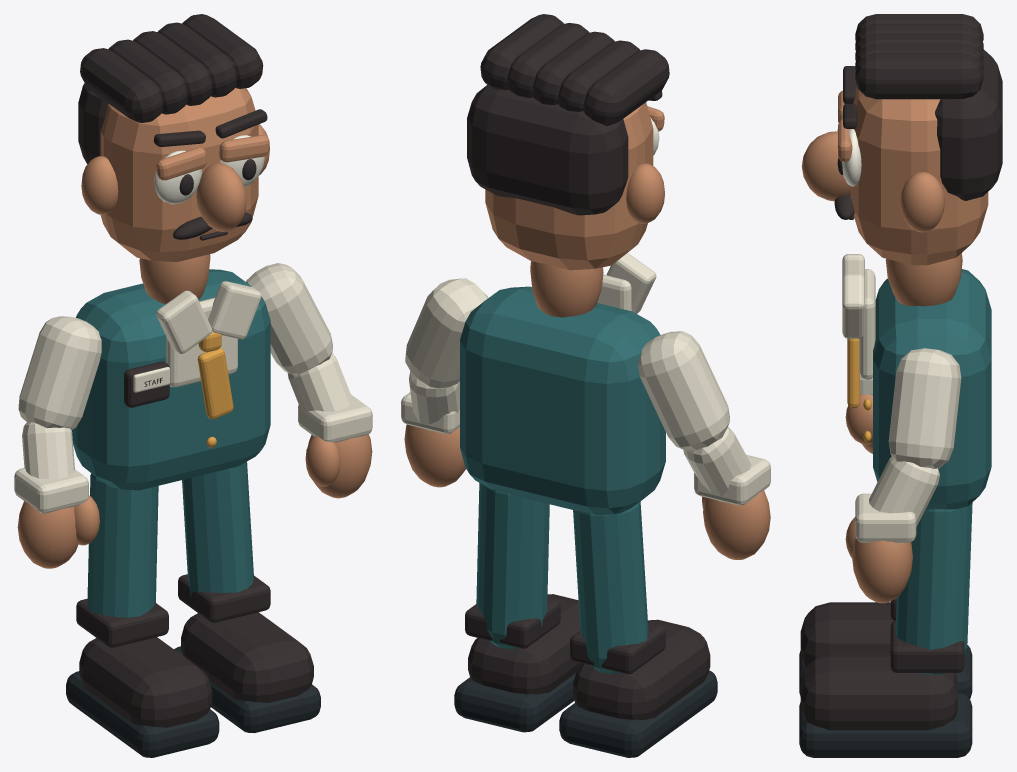
File: worker_host.glb
The picture shows the model from 3 angles, left to right: view 1: azimuth 30°, elevation 25°; view 2: azimuth 150°, elevation 25°; view 3: azimuth 270°, elevation 25°; orthographic projection. The views are drawn at different scales.
Visible parts, largest first — view 1: worker_host; view 2: worker_host; view 3: worker_host.
Part boxes in pixels (x1,y1,x2,y2): worker_host: (14, 14, 372, 757); worker_host: (401, 14, 770, 757); worker_host: (799, 14, 1002, 757).
Size of the model in its own units: 1.3 by 2.35 by 0.635.
